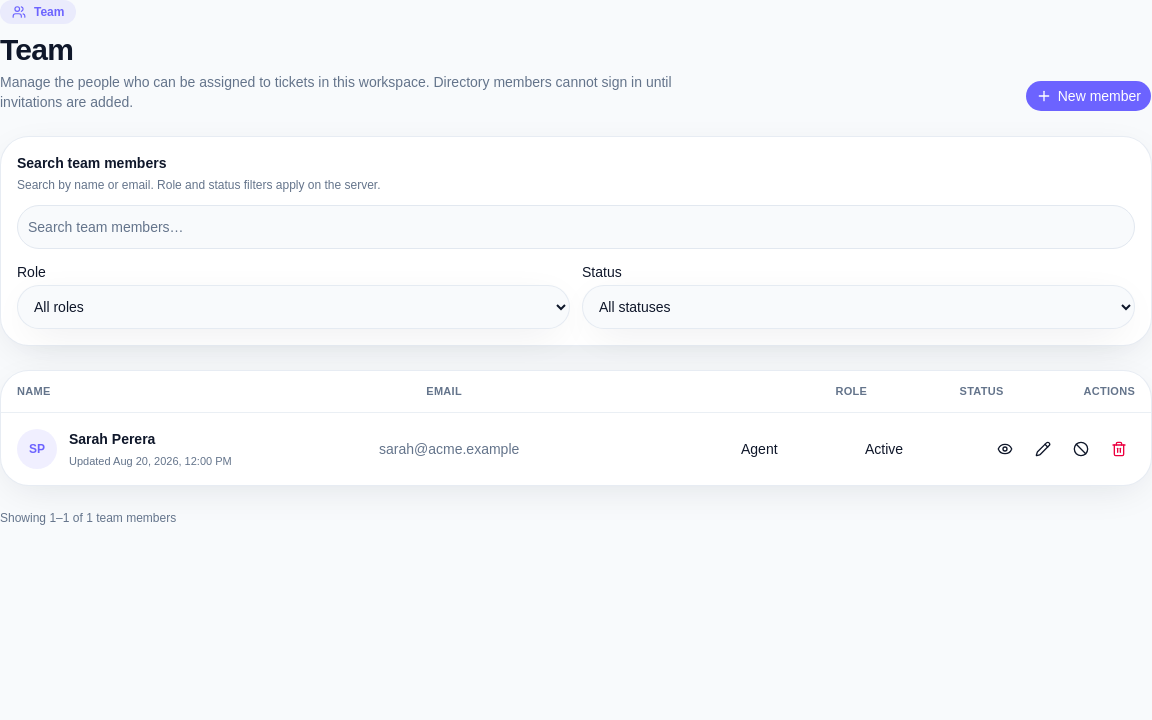
Test: TeamBoard › opens team member details
Expected: the text "Sarah Perera" is shown, 69,430 -> 155,446
Click the button named "View Sarah Perera": (1005,449) 989,433 -> 1021,465
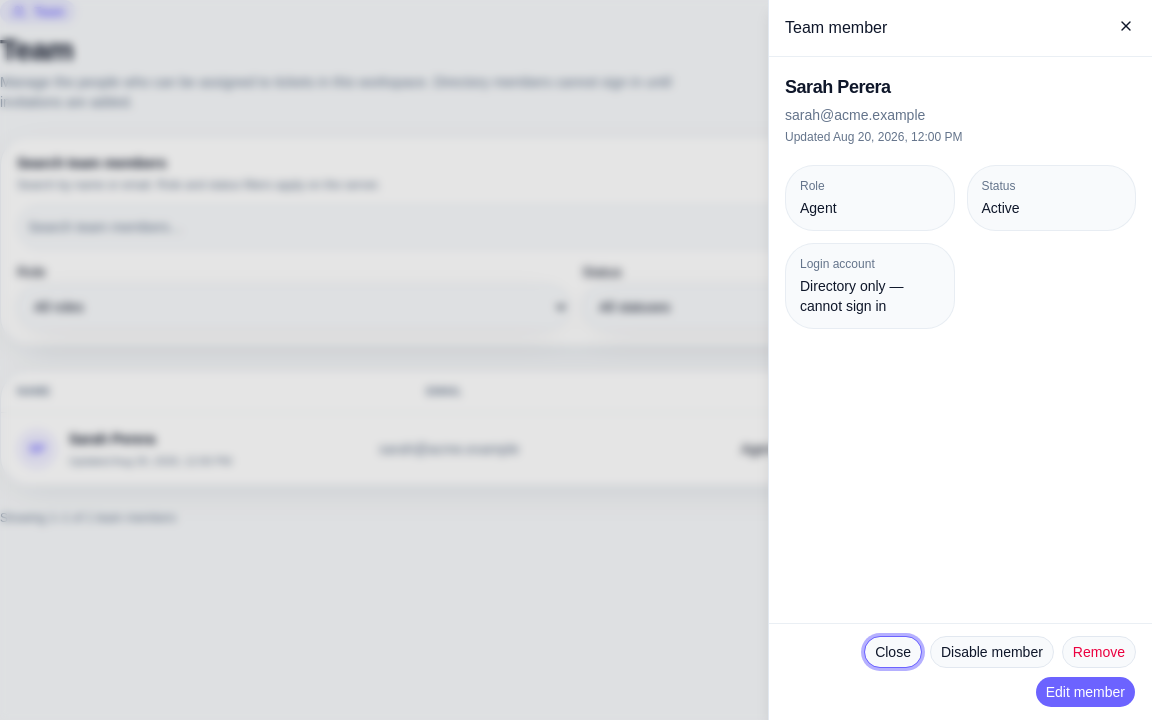
Expected: the heading "Sarah Perera" is shown, 785,77 -> 891,97
Expected: the text "sarah@acme.example" is shown, 785,107 -> 925,123
Expected: the text "Directory only — cannot sign in" is shown, 800,278 -> 904,314
